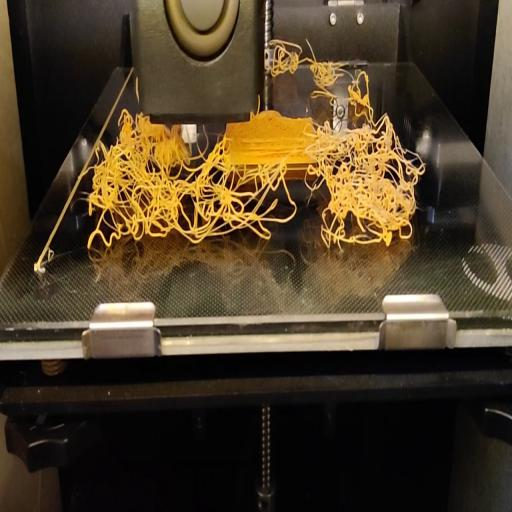spaghetti: (86, 108, 426, 255), (268, 29, 374, 108)
